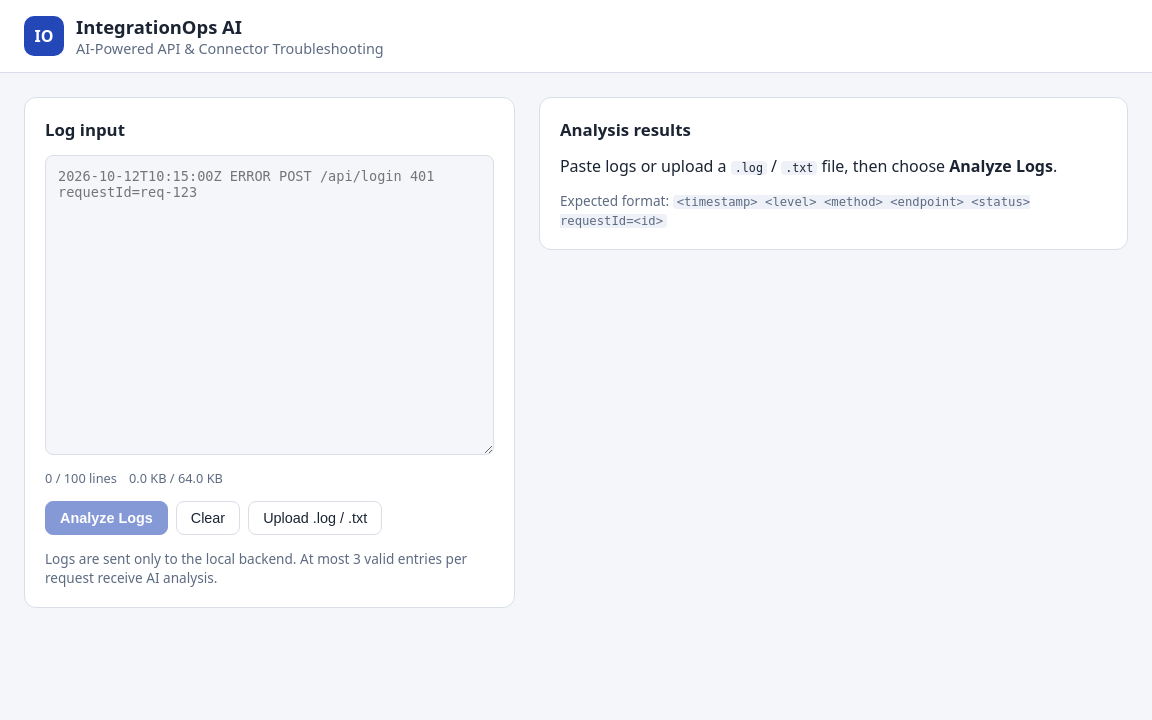
Test: App › notes entries skipped because of the 3-entry limit
Click the text box named "log lines" at (269, 305), box [45,155,494,455]
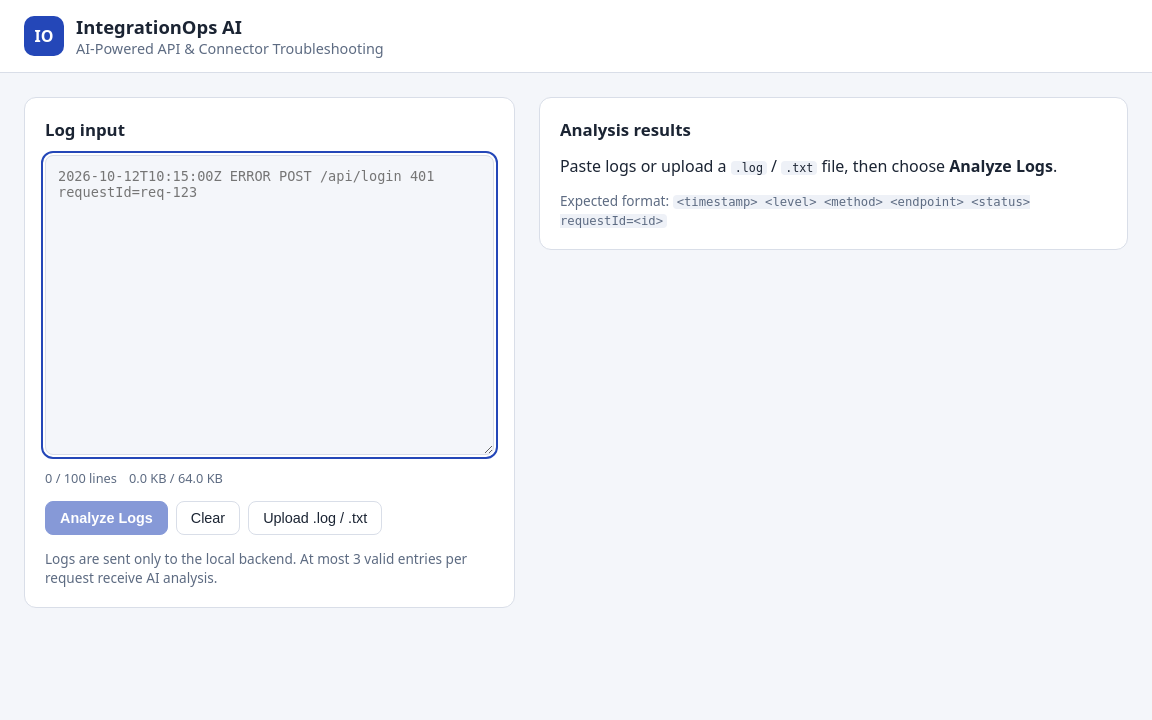
Type keys "2026-10-12T10:15:00Z ERROR POST /api/login 401 requestId=req-123"
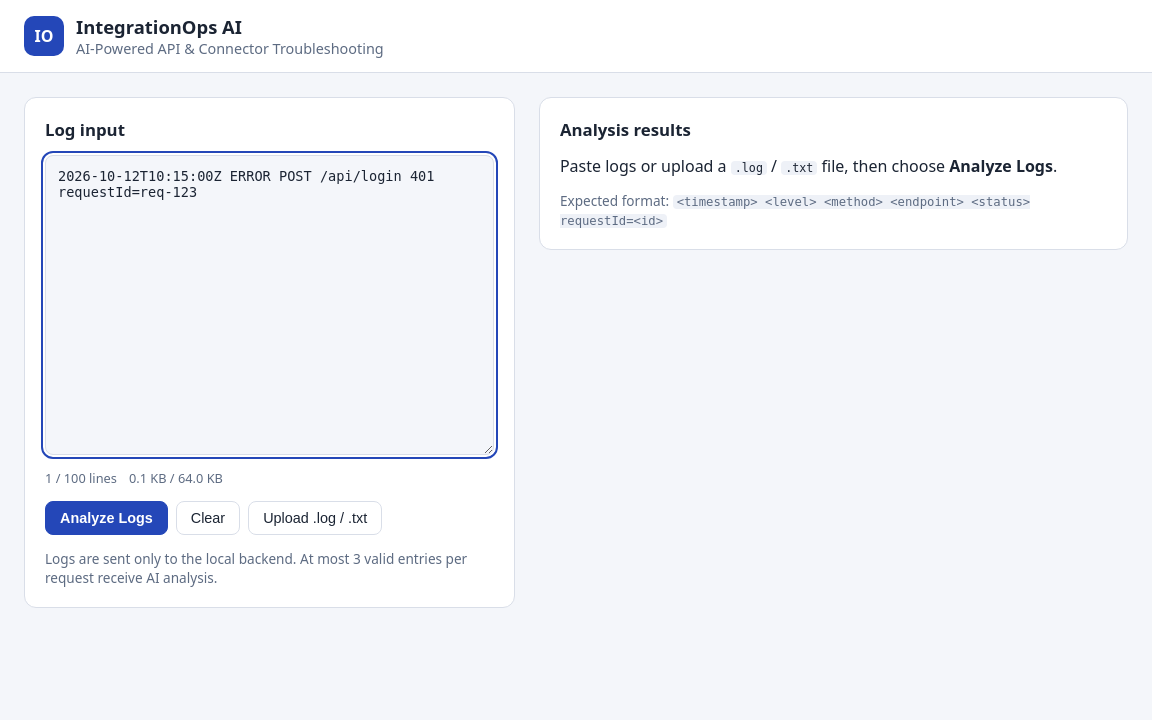
Click the button "Analyze Logs" at (106, 518), box [45,501,168,535]
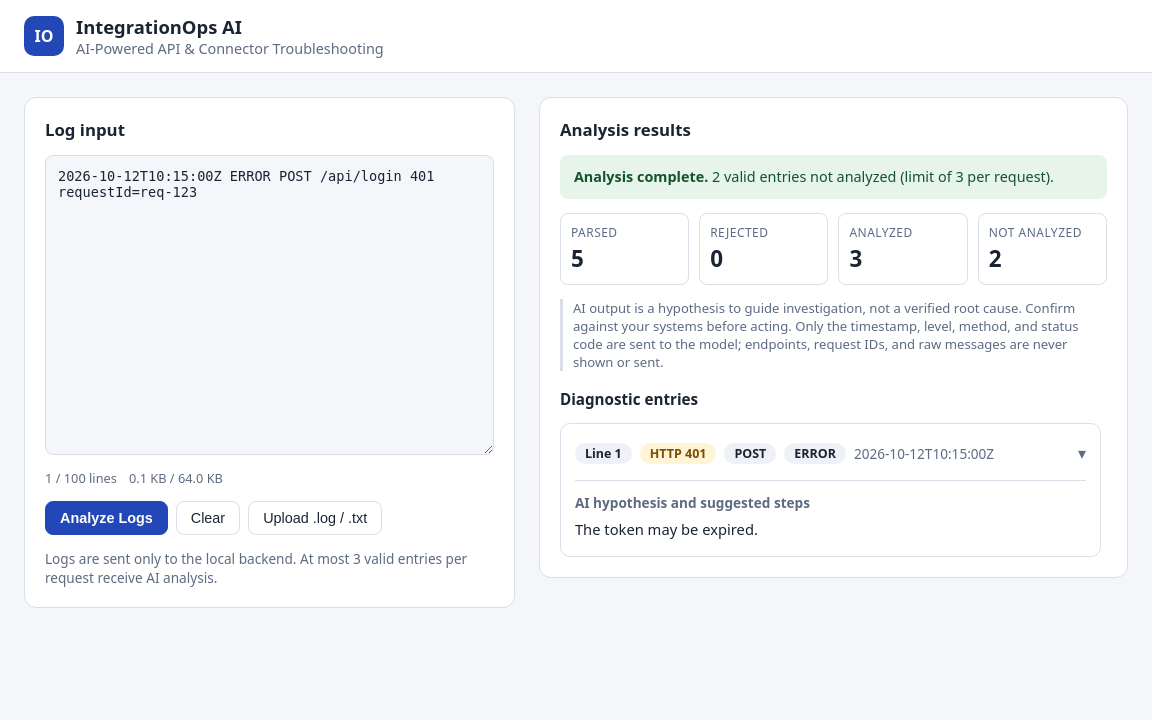
Expected: the text "Analysis complete. 2 valid entries not analyzed (limit of 3 per request)." is shown, [560,155,1107,199]
